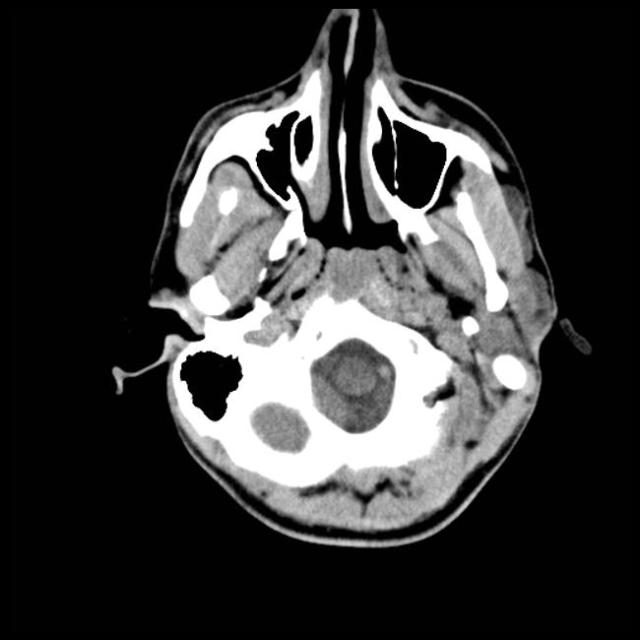lesion: (111, 7, 569, 550)
